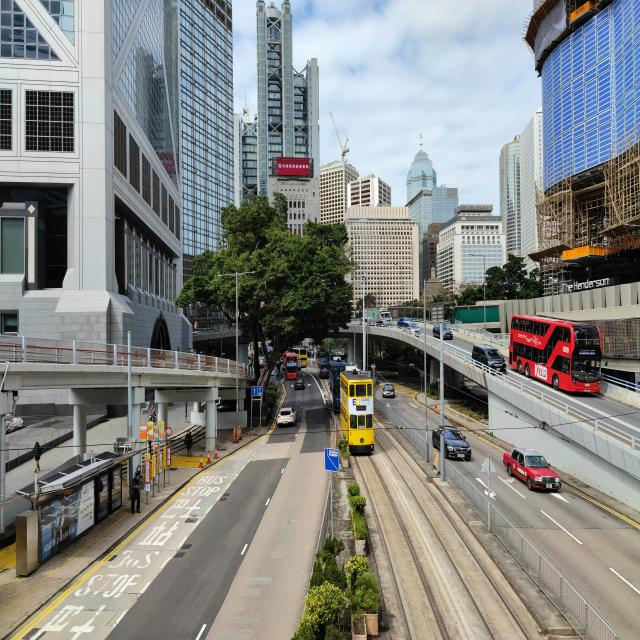bus: (510, 316, 601, 392), (340, 371, 374, 453), (329, 362, 346, 410), (283, 352, 298, 379), (317, 351, 329, 378), (292, 348, 307, 367)
